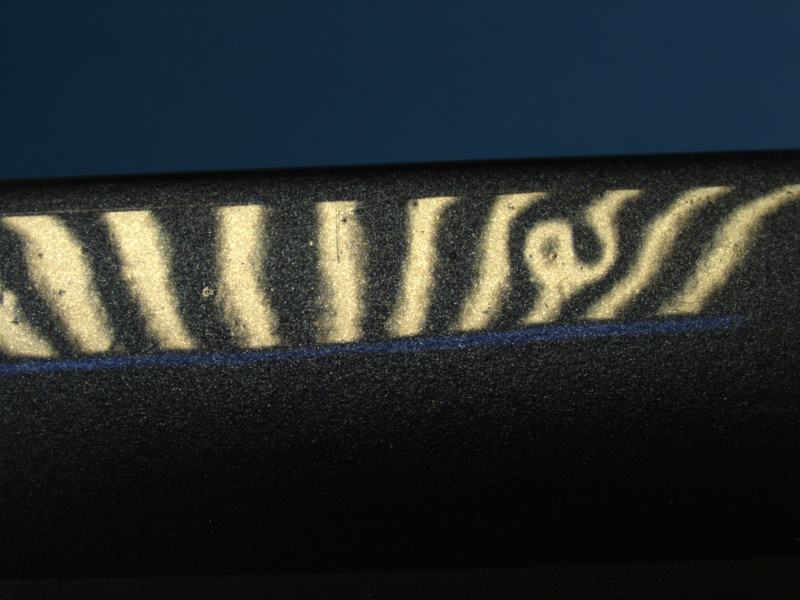bad: (520, 204, 629, 303), (194, 280, 224, 305)
